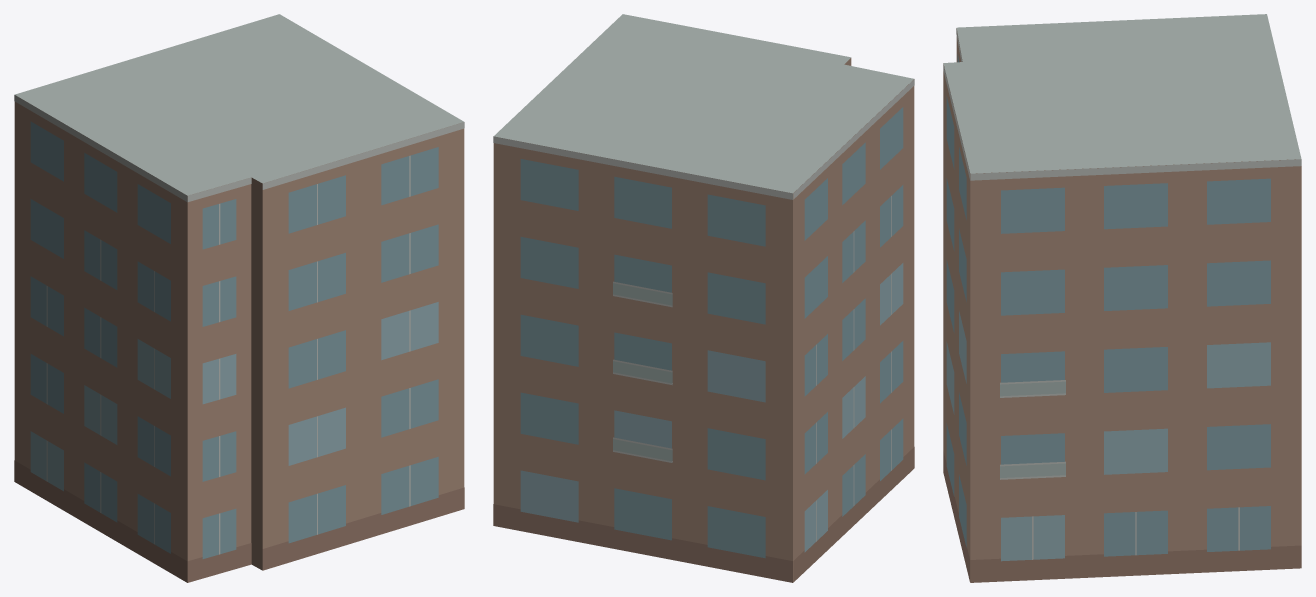
The model's file is survey-upis-32978857.glb.
3 renders of one model, left to right at view 1: azimuth 30°, elevation 25°; view 2: azimuth 150°, elevation 25°; view 3: azimuth 270°, elevation 25°, orthographic. The views are drawn at different scales.
Visible parts, largest first — view 1: survey-upis-32978857.tmp; view 2: survey-upis-32978857.tmp; view 3: survey-upis-32978857.tmp.
Part boxes in pixels (x1,y1,x2,y2): survey-upis-32978857.tmp: (14, 14, 464, 582); survey-upis-32978857.tmp: (493, 14, 914, 582); survey-upis-32978857.tmp: (943, 14, 1301, 582).
Bounding box in the file's own units: 11.98 × 14.3 × 11.36.
